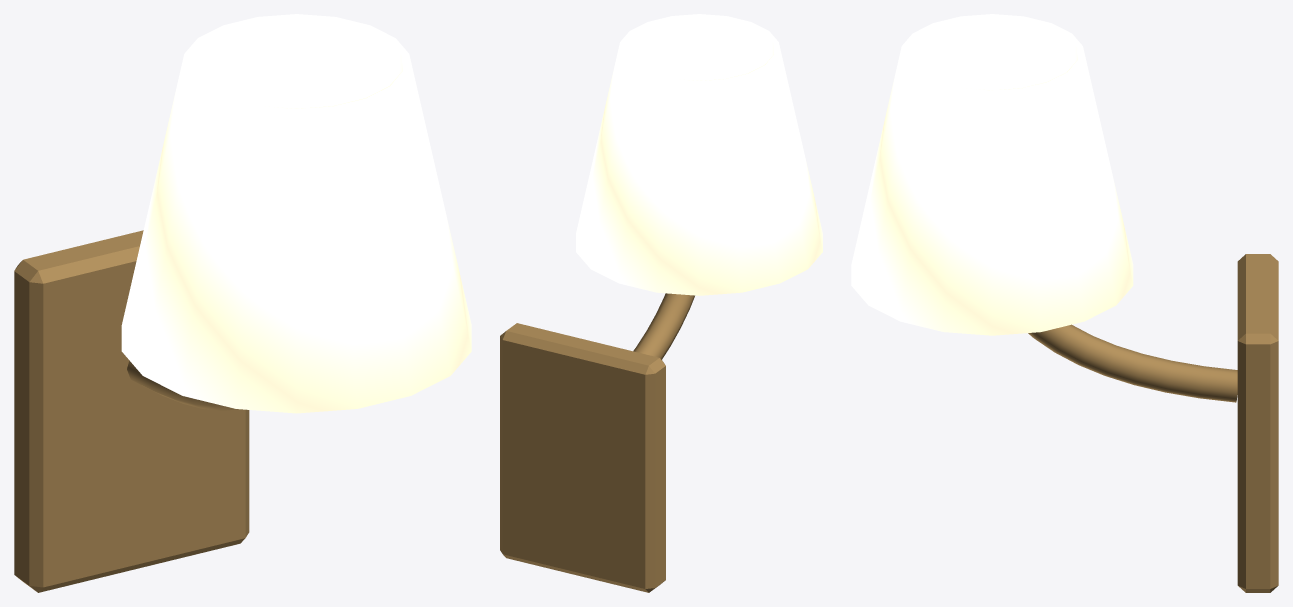
File: i_sconce_0.glb
The picture shows the model from 3 angles, left to right: view 1: azimuth 30°, elevation 25°; view 2: azimuth 150°, elevation 25°; view 3: azimuth 270°, elevation 25°; orthographic projection. The views are drawn at different scales.
Visible parts, largest first — view 1: o.002, o, o.001; view 2: o.002, o, o.001; view 3: o.002, o, o.001.
Part boxes in pixels (left/top/right/bottom): o.002: left=121, top=14, right=471, bottom=413; o: left=14, top=230, right=249, bottom=592; o.001: left=127, top=360, right=238, bottom=410; o.002: left=576, top=14, right=822, bottom=295; o: left=500, top=323, right=665, bottom=592; o.001: left=633, top=293, right=694, bottom=359; o.002: left=851, top=14, right=1133, bottom=335; o: left=1237, top=254, right=1278, bottom=592; o.001: left=1028, top=324, right=1237, bottom=402.
Bounding box in the file's own units: 0.14 × 0.27 × 0.2089.
